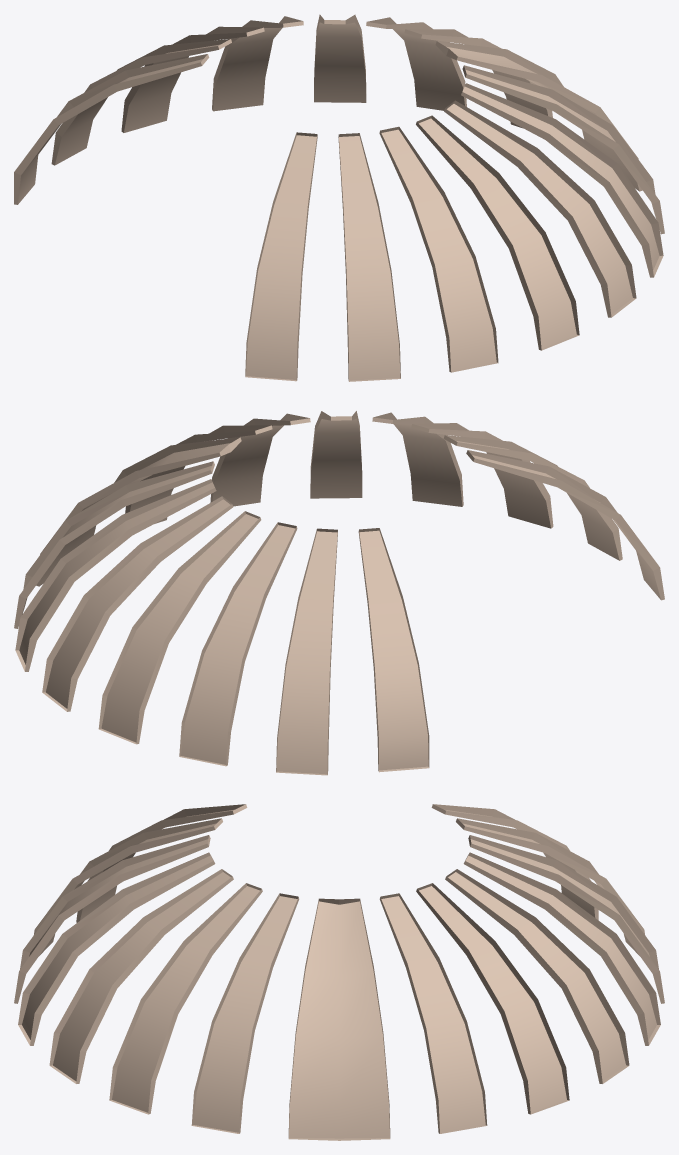
Rendered from BC_Insideceiling_A 2.fbx.
The picture shows the model from 3 angles, top to bottom: view 1: azimuth 30°, elevation 25°; view 2: azimuth 150°, elevation 25°; view 3: azimuth 270°, elevation 25°; orthographic projection. The views are drawn at different scales.
Visible parts, largest first — view 1: BC_Insideceiling_A_2; view 2: BC_Insideceiling_A_2; view 3: BC_Insideceiling_A_2.
Boxes of the visible parts, left/top/right/bottom form: BC_Insideceiling_A_2: left=14, top=14, right=664, bottom=381; BC_Insideceiling_A_2: left=14, top=411, right=664, bottom=775; BC_Insideceiling_A_2: left=14, top=804, right=664, bottom=1140.
Bounding box in the file's own units: 2583 × 824 × 3026.
